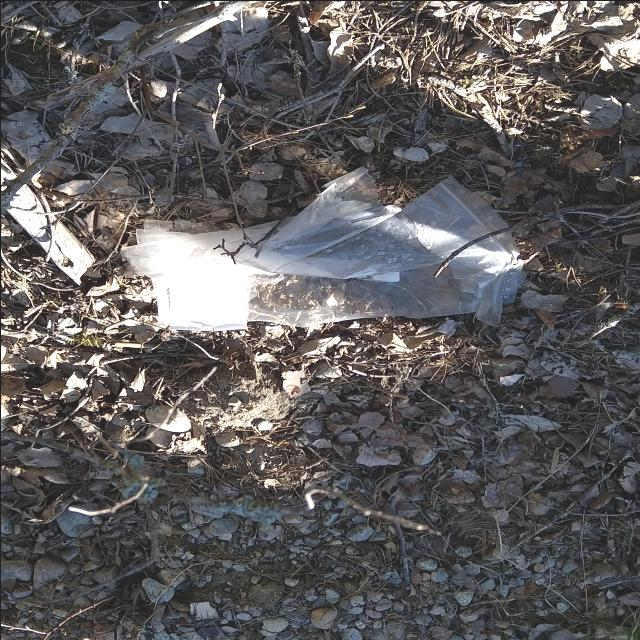Plastic film: (120, 166, 522, 330)
